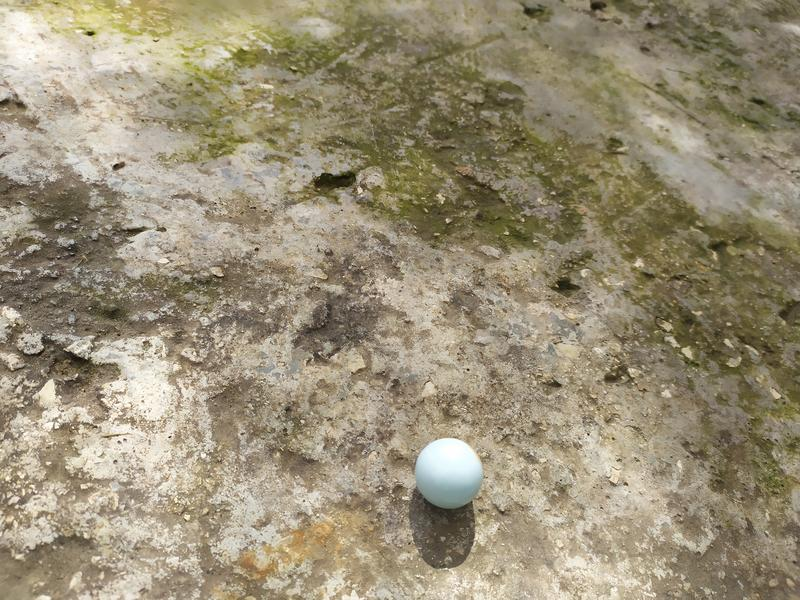Warning: (413, 436, 485, 511)
